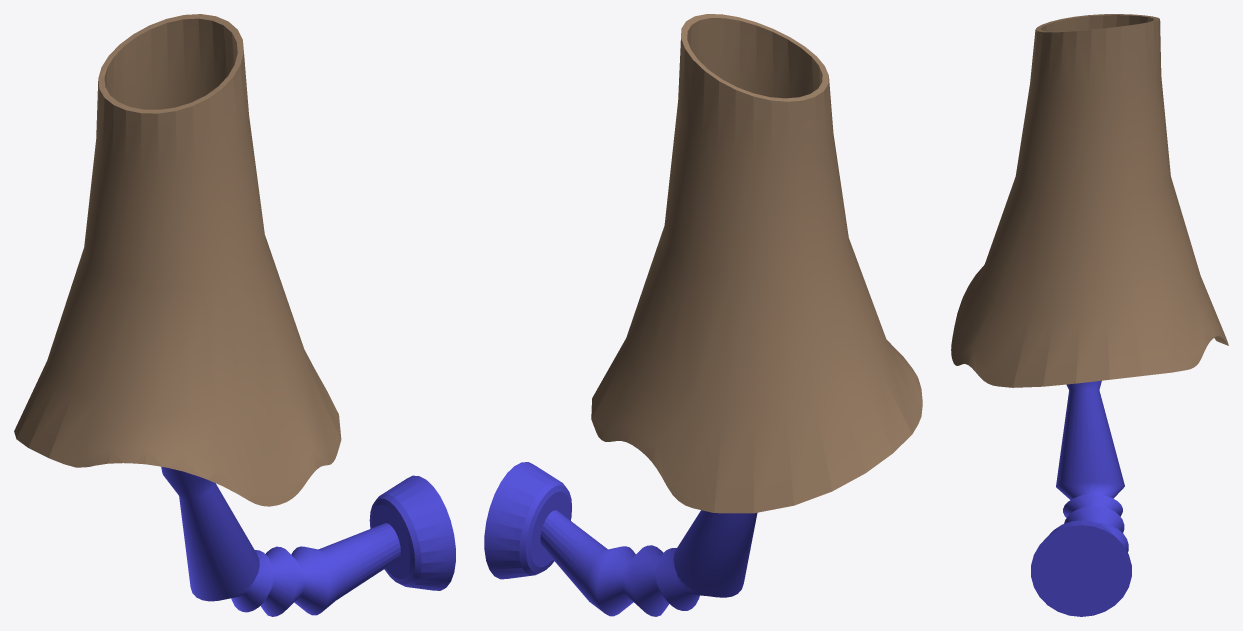
The model's file is SM_LampeMurale_low.fbx.
The picture shows the model from 3 angles, left to right: view 1: azimuth 30°, elevation 25°; view 2: azimuth 150°, elevation 25°; view 3: azimuth 270°, elevation 25°; orthographic projection. The views are drawn at different scales.
Parts seen in each view (by area): view 1: SM_LampeMurale_low; view 2: SM_LampeMurale_low; view 3: SM_LampeMurale_low.
Part boxes in pixels (x1,y1,x2,y2): SM_LampeMurale_low: (14,14,455,616); SM_LampeMurale_low: (484,14,922,616); SM_LampeMurale_low: (951,14,1228,616).
Bounding box in the file's own units: 141 × 212 × 103.
